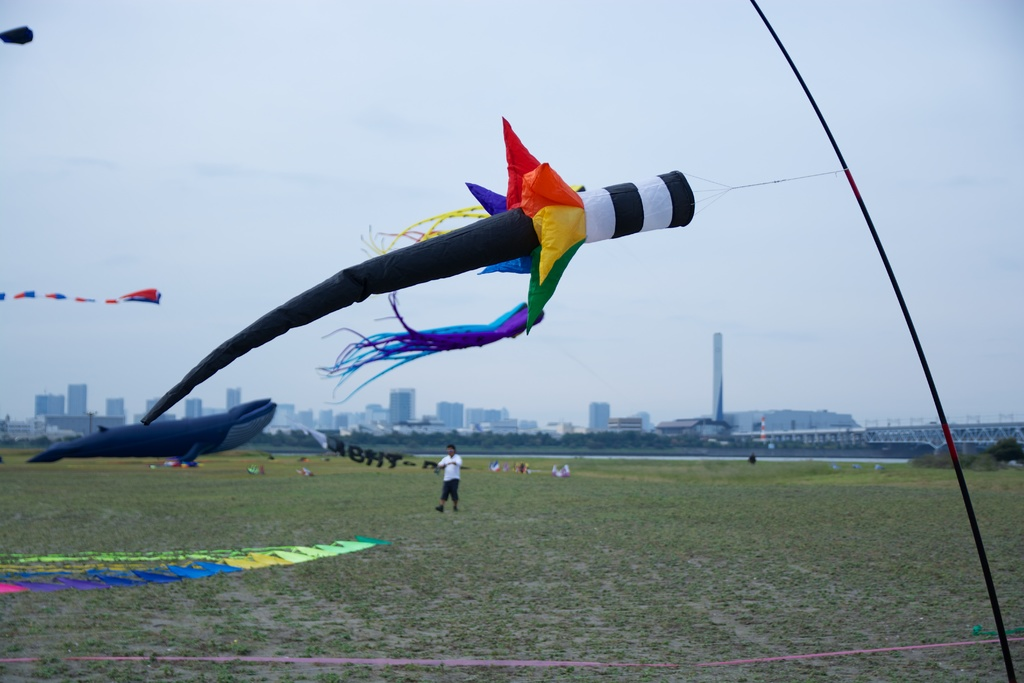kite: (143, 157, 704, 427), (1, 275, 162, 319)
